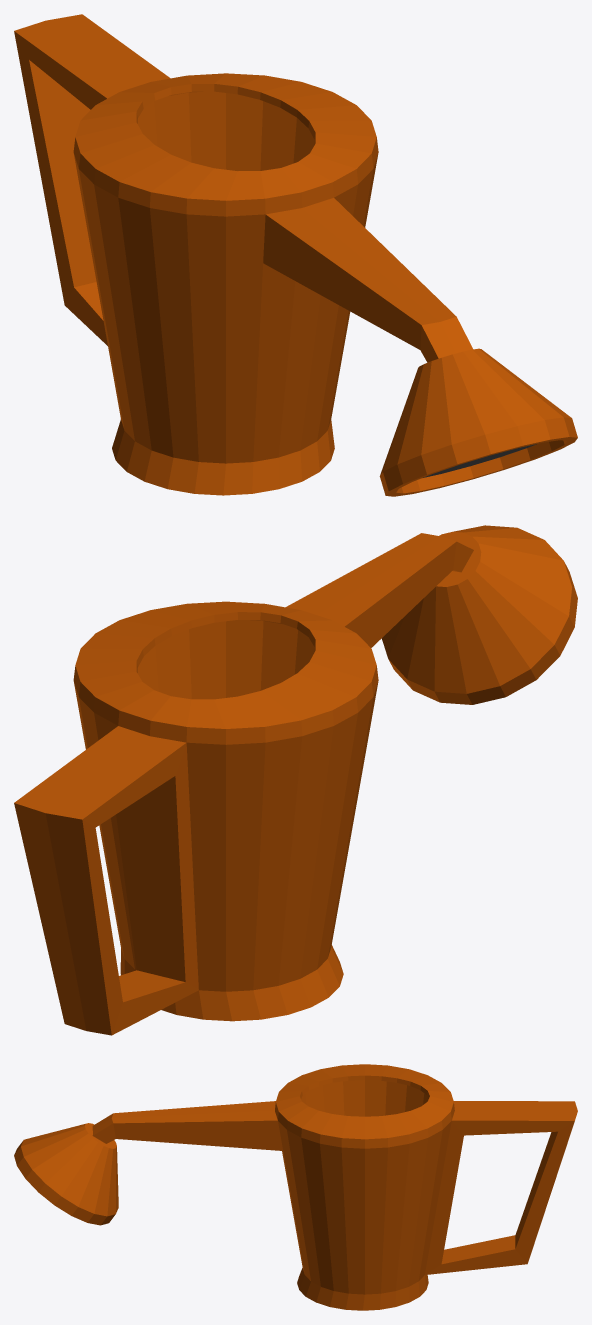
Rendered from leyka.fbx.
3 renders of one model, top to bottom at view 1: azimuth 30°, elevation 25°; view 2: azimuth 150°, elevation 25°; view 3: azimuth 270°, elevation 25°, orthographic. The views are drawn at different scales.
Visible parts, largest first — view 1: Cube; view 2: Cube; view 3: Cube.
Boxes of the visible parts, x1,y1,x2,y2 form: Cube: [14, 14, 577, 496]; Cube: [14, 525, 577, 1035]; Cube: [14, 1064, 577, 1310].
Bounding box in the file's own units: 303 × 349 × 949.
